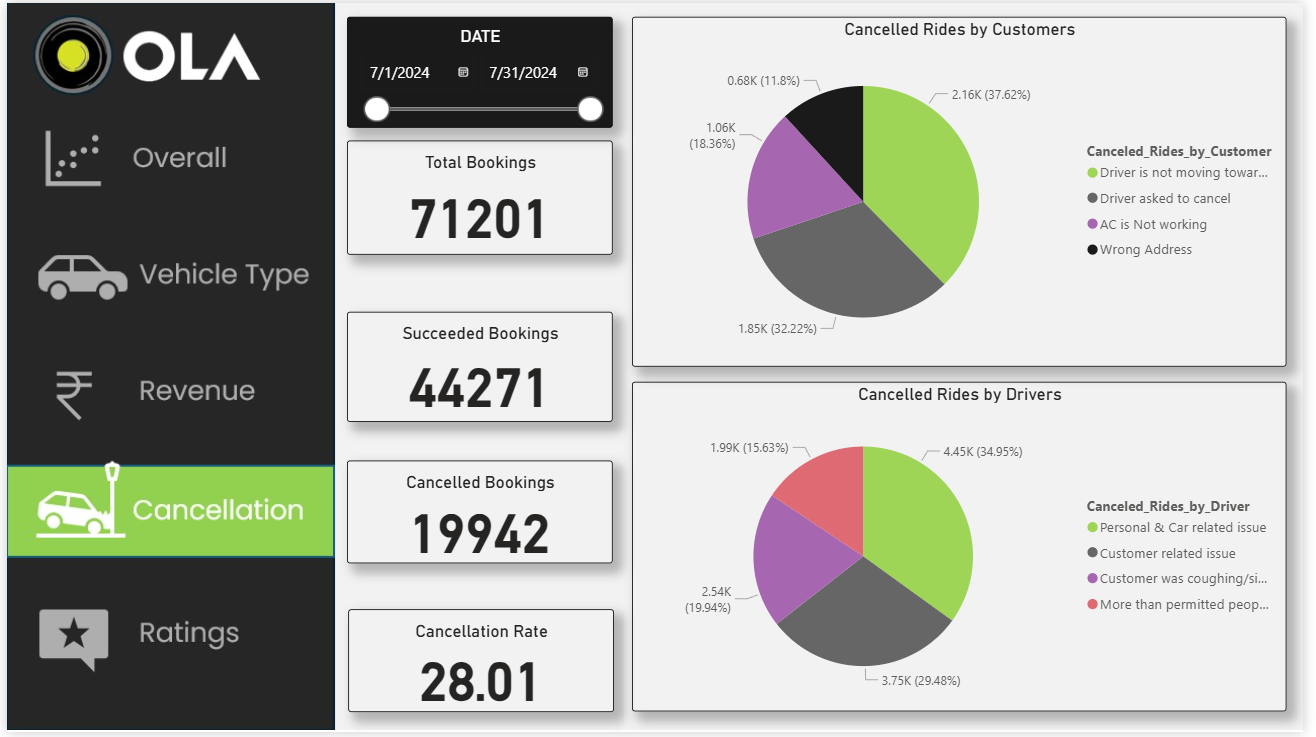

Layout of this report page (visuals, bound fields, positions):
{"tool":"powerbi","page":{"name":"Cancellation","canvas":[1280,720],"ordinal":3},"visuals":[{"type":"actionButton","box":[0,577.9,324.8,91.7],"z":0},{"type":"actionButton","box":[0,109.7,324.8,91.7],"z":1000},{"type":"actionButton","box":[0,341.7,324.8,91.7],"z":2000},{"type":"actionButton","box":[0,223.6,324.8,91.7],"z":3000},{"type":"pieChart","title":"Cancelled Rides by Customers","fields":{"Category":["July.Canceled_Rides_by_Customer"],"Y":["CountNonNull(July.Canceled_Rides_by_Customer)"]},"box":[617.5,13.7,646.3,345.8],"z":4000},{"type":"pieChart","title":"Cancelled Rides by Drivers","fields":{"Category":["July.Canceled_Rides_by_Driver"],"Y":["CountNonNull(July.Canceled_Rides_by_Driver)"]},"box":[617.5,374.6,646.3,325.2],"z":5000},{"type":"slicer","title":"DATE","fields":{"Values":["July.Date"]},"box":[336.2,13.7,262.1,109.8],"z":6000},{"type":"card","title":"Total Bookings","fields":{"Values":["Count(July.Booking_ID)"]},"box":[336.2,135.8,262.1,112.5],"z":7000},{"type":"card","title":"Succeeded Bookings","fields":{"Values":["Count(July.Booking_ID)"]},"box":[336.2,304.6,262.1,108.4],"z":8000},{"type":"card","title":"Cancelled Bookings","fields":{"Values":["Count(July.Booking_ID)"]},"box":[336.2,451.5,262.1,101.5],"z":9000},{"type":"card","title":"Cancellation Rate","fields":{"Values":["July.CanceledPercentage"]},"box":[337.6,598.3,262.1,101.5],"z":10000}]}

Visuals, with their boxes in screenshot pixels (x1, y1, x2, y2), scaled from the page's 1280x720 canvas onto the 1316x737 screenshot:
actionButton: 0:592:334:685
actionButton: 0:112:334:206
actionButton: 0:350:334:444
actionButton: 0:229:334:323
"Cancelled Rides by Customers" pieChart: 635:14:1299:368
"Cancelled Rides by Drivers" pieChart: 635:383:1299:716
"DATE" slicer: 346:14:615:126
"Total Bookings" card: 346:139:615:254
"Succeeded Bookings" card: 346:312:615:423
"Cancelled Bookings" card: 346:462:615:566
"Cancellation Rate" card: 347:612:617:716
